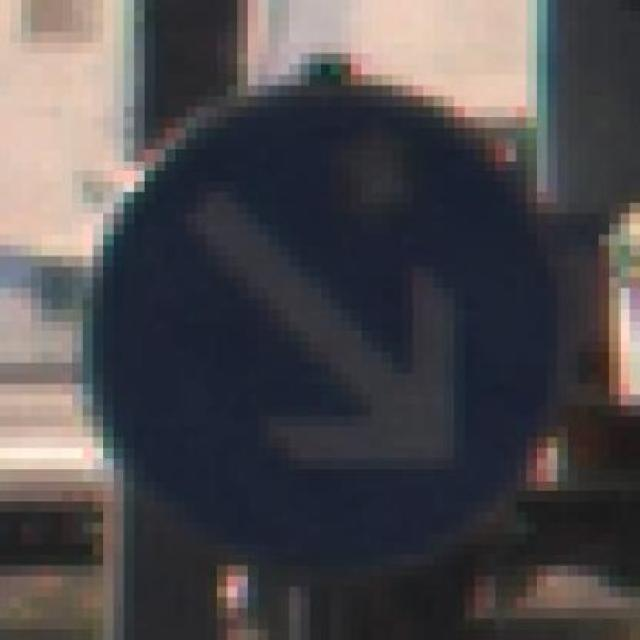Keep-Right: (51, 53, 588, 598)
